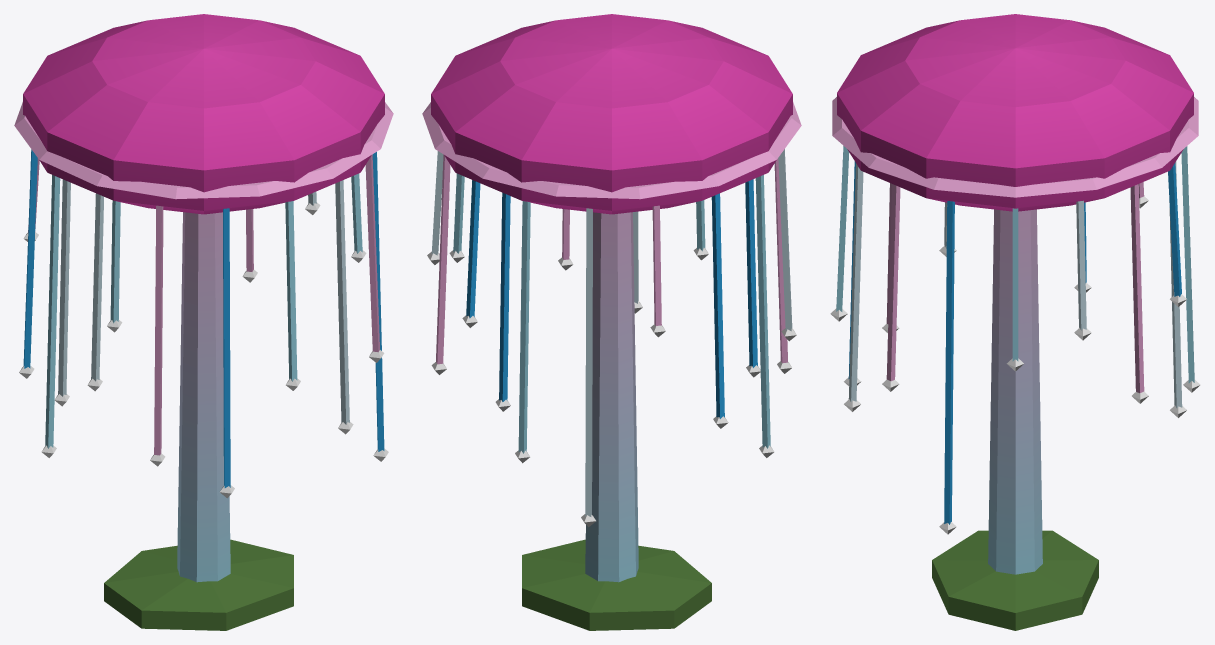
Rendered from dripcap.glb.
The picture shows the model from 3 angles, left to right: view 1: azimuth 30°, elevation 25°; view 2: azimuth 150°, elevation 25°; view 3: azimuth 270°, elevation 25°; orthographic projection.
Parts seen in each view (by area): view 1: dripcap; view 2: dripcap; view 3: dripcap.
Part boxes in pixels (x1=…): dripcap: x1=14, y1=14, x2=393, y2=630; dripcap: x1=422, y1=14, x2=801, y2=630; dripcap: x1=830, y1=14, x2=1200, y2=630.
Bounding box in the file's own units: 1.9 × 3.06 × 1.88.
